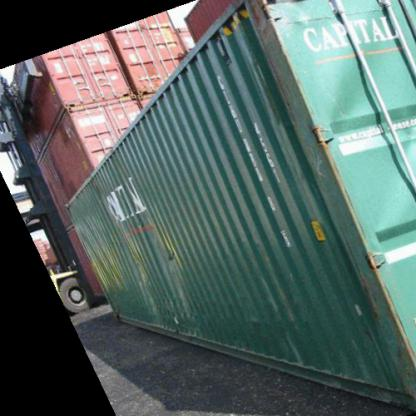Damage: (235, 1, 415, 162), (65, 191, 187, 318)
